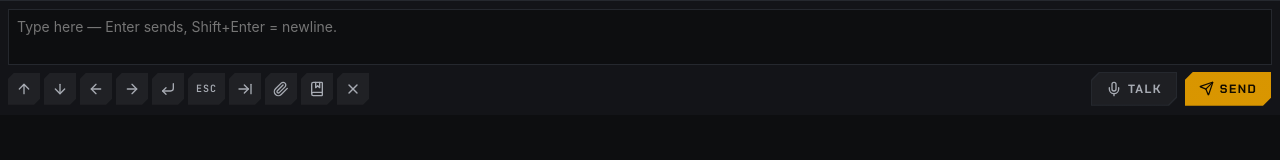
Test: an unmapped speech error names itself instead of a generic 'microphone blocked' (#659 follow-up)
This screenshot has width=1280, height=160.
Press the mouse on the button with aria-label "voice input" at (1134, 89), box [1090,71,1178,107]
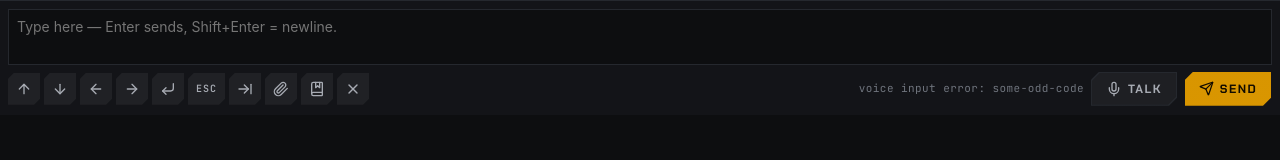
Check: the text "voice input error: some-odd-code" is shown, box [859,81,1084,96]
